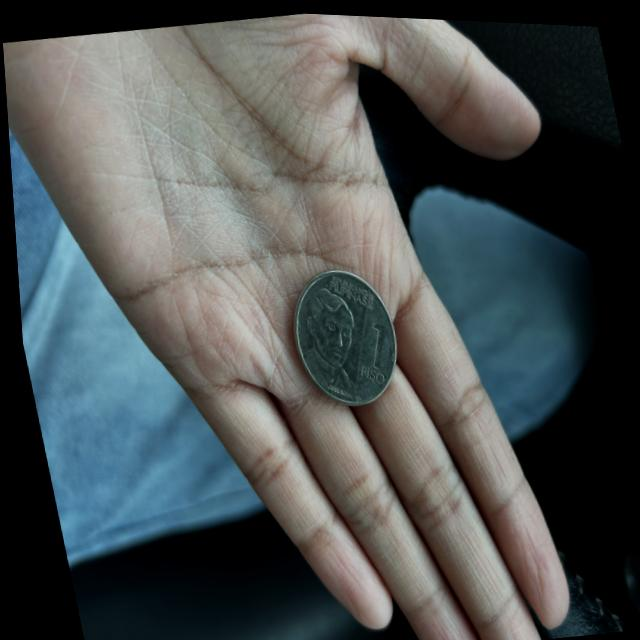1_New_Front: (345, 309, 399, 389)
